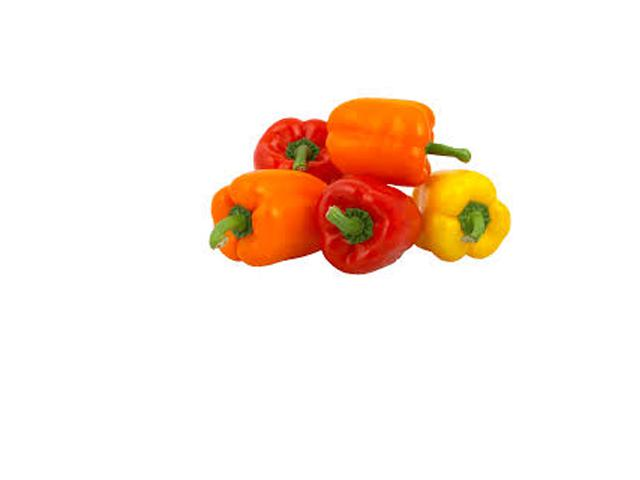bell_pepper: (182, 157, 330, 276)
